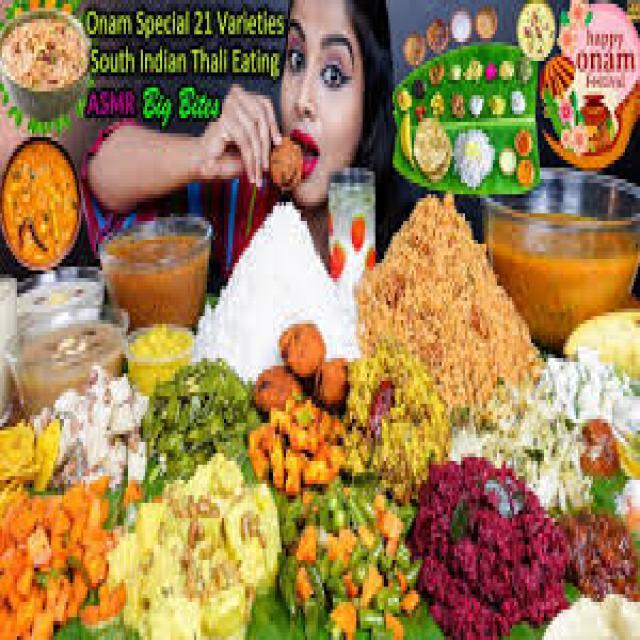dal: (121, 309, 201, 404)
raita: (318, 165, 381, 280)
rice: (217, 200, 322, 371)
sambar-rasam: (101, 210, 215, 322)
sweet: (0, 12, 92, 101)
veg-fry: (2, 134, 86, 279)
